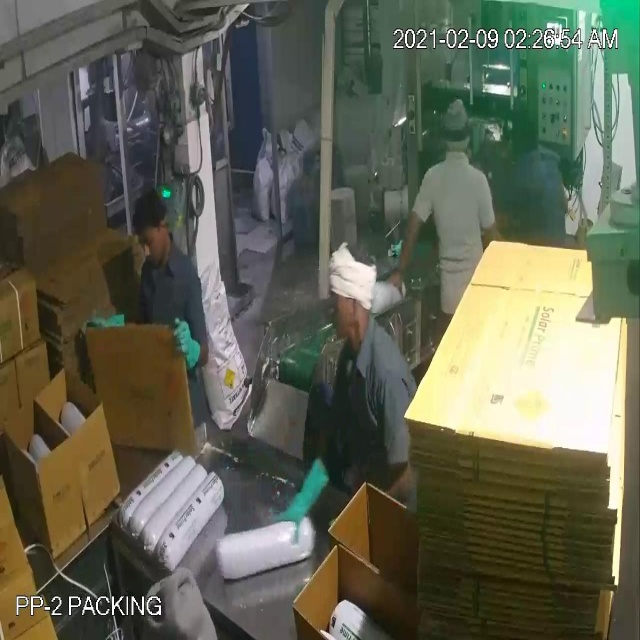Guantes: (271, 443, 330, 549), (77, 304, 133, 354), (166, 315, 209, 374)
Sin_guantes: (388, 206, 422, 298)
